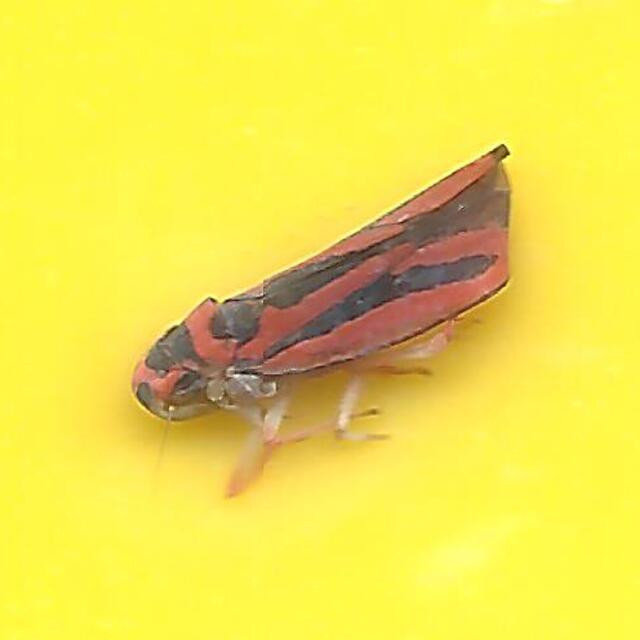Hemiptera: (129, 141, 511, 499)
